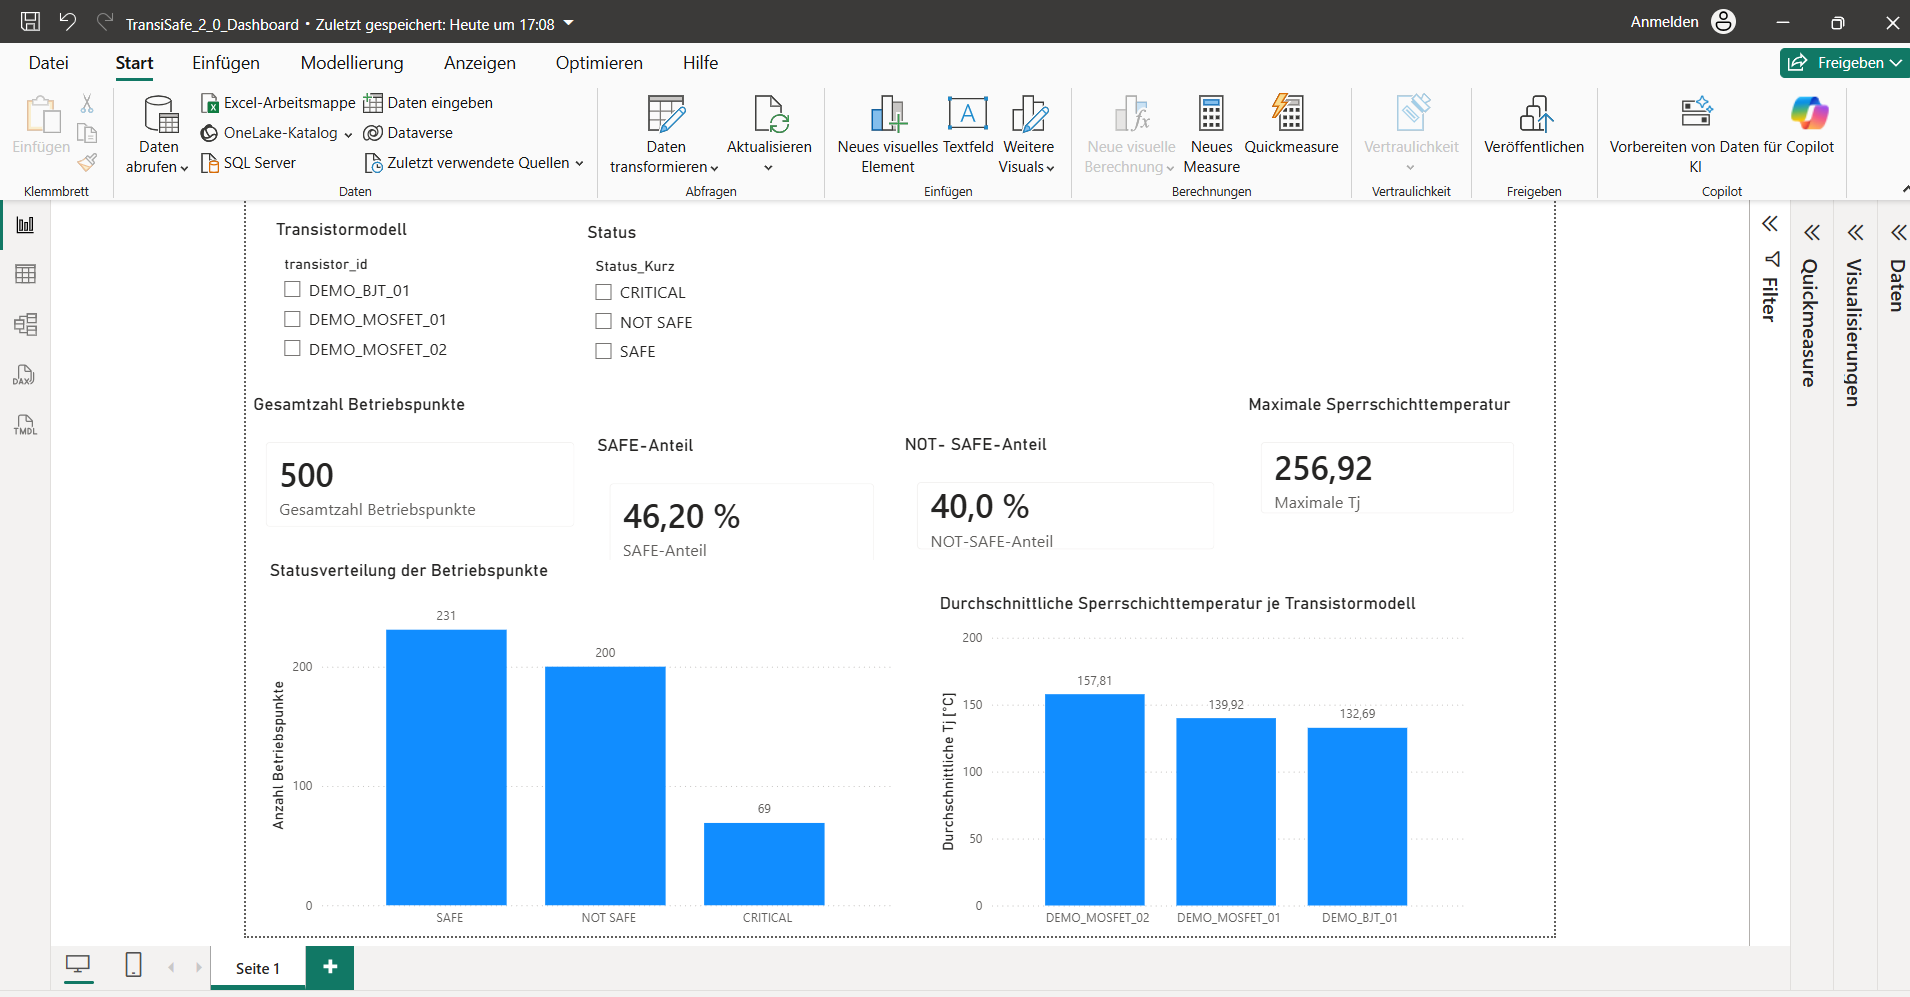

This screenshot's page, from the dashboard's own definition file:
{"tool":"powerbi","page":{"name":"Seite 1","canvas":[1280,720],"ordinal":0},"visuals":[{"type":"cardVisual","title":"Gesamtzahl Betriebspunkte","fields":{"Data":["results.Gesamtzahl Betriebspunkte"]},"box":[2.7,189.4,336.2,148.2],"z":0},{"type":"cardVisual","title":"SAFE-Anteil","fields":{"Data":["results.SAFE-Anteil"]},"box":[338.7,189.5,293.7,148.2],"z":1000},{"type":"cardVisual","title":"NOT- SAFE-Anteil","fields":{"Data":["results.NOT-SAFE-Anteil"]},"box":[632.2,189.5,328.9,148],"z":2000},{"type":"cardVisual","title":"Maximale Sperrschichttemperatur","fields":{"Data":["results.Maximale Tj"]},"box":[961.1,189.5,302,148],"z":3000},{"type":"columnChart","title":"Statusverteilung der Betriebspunkte","fields":{"Category":["results.Status_Kurz"],"Y":["CountNonNull(results.idx)"]},"box":[0,352.2,621.6,367.8],"z":4000},{"type":"columnChart","title":"Durchschnittliche Sperrschichttemperatur je Transistormodell","fields":{"Category":["results.transistor_id"],"Y":["Avg(results.tj)"]},"box":[738.6,368.1,524.2,336.2],"z":5000},{"type":"slicer","title":"Transistormodell","fields":{"Values":["results.transistor_id"]},"box":[2.4,20.8,263.7,156.8],"z":6000},{"type":"slicer","title":"Status","fields":{"Values":["results.Status_Kurz"]},"box":[338.7,24.5,294,150],"z":7000}]}

Visuals, with their boxes on the page's 1280x720 design canvas (x1, y1, x2, y2). These are canvas units, not pixel positions in the 1910x997 screenshot, which may show the page scaled, cropped or inside an application window:
"Gesamtzahl Betriebspunkte" cardVisual: 3,189,339,338
"SAFE-Anteil" cardVisual: 339,190,632,338
"NOT- SAFE-Anteil" cardVisual: 632,190,961,338
"Maximale Sperrschichttemperatur" cardVisual: 961,190,1263,338
"Statusverteilung der Betriebspunkte" columnChart: 0,352,622,720
"Durchschnittliche Sperrschichttemperatur je Transistormodell" columnChart: 739,368,1263,704
"Transistormodell" slicer: 2,21,266,178
"Status" slicer: 339,24,633,174
